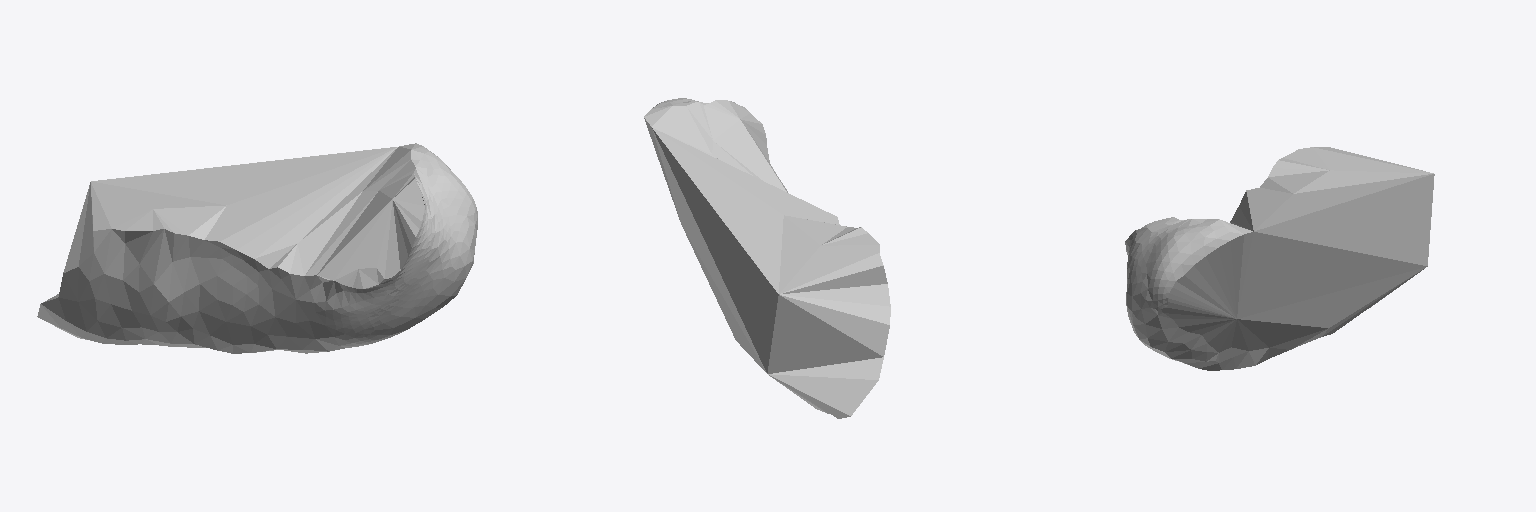
The model's file is R_alveolar_collision_proxy.obj.
3 views of the same model, side by side, from view 1: azimuth 30°, elevation 25°; view 2: azimuth 150°, elevation 25°; view 3: azimuth 270°, elevation 25° (orthographic).
Visible parts, largest first — view 1: objMat.003; view 2: objMat.003; view 3: objMat.003.
Boxes of the visible parts, x1=… form: objMat.003: x1=37, y1=143, x2=477, y2=353; objMat.003: x1=644, y1=98, x2=890, y2=418; objMat.003: x1=1125, y1=147, x2=1434, y2=370.
Size of the model in its own units: 0.7685 by 0.4399 by 0.6308.